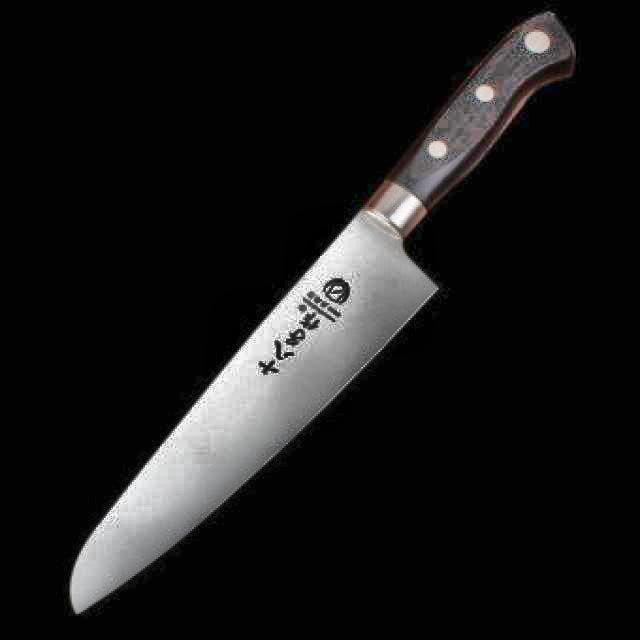knife: (68, 11, 584, 621)
